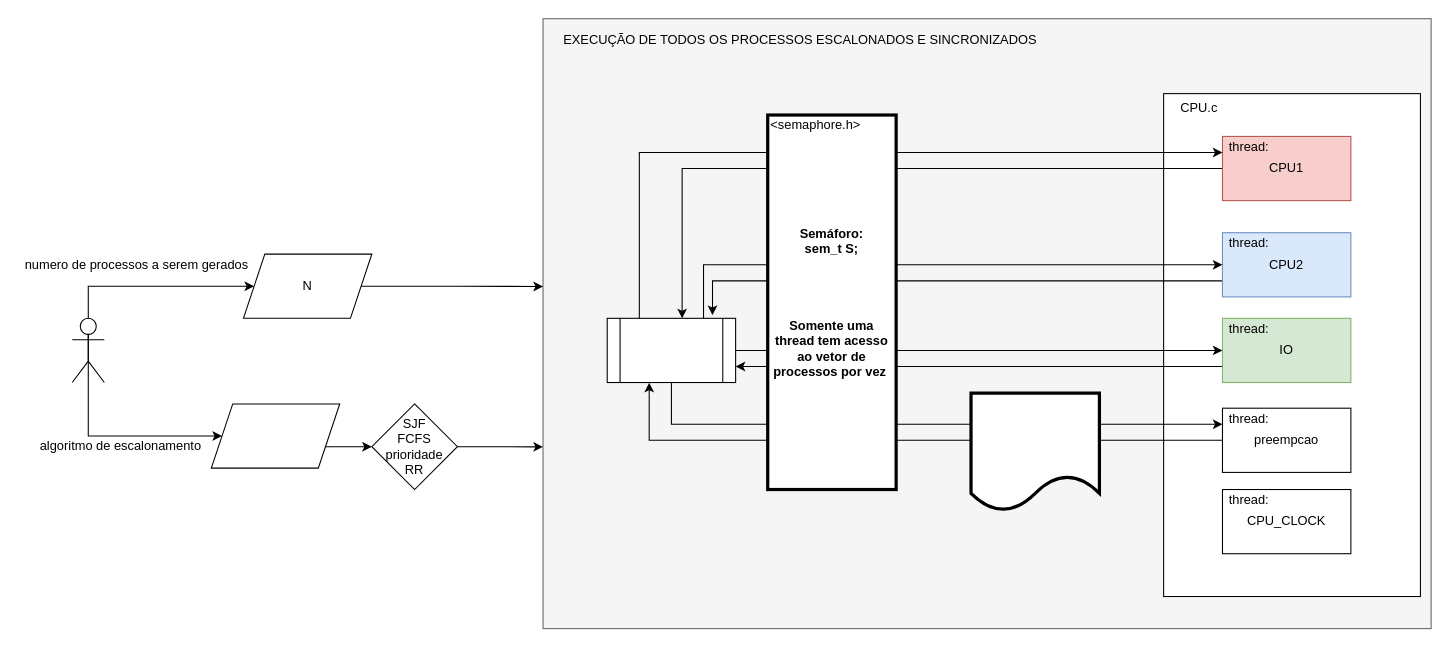
Some shapes in this 1450 by 647 pixel diagram are drawn without their labels. Each missing label, with the centre of its shape:
"Escalonadores: -FCFS.h -SJF.h -prioridade.h -RR.h" belongs at pixel 1034 451.
"escolha" belongs at pixel 275 435.
"Usuário" belongs at pixel 87 350.
"vetor de processos" belongs at pixel 671 350.
